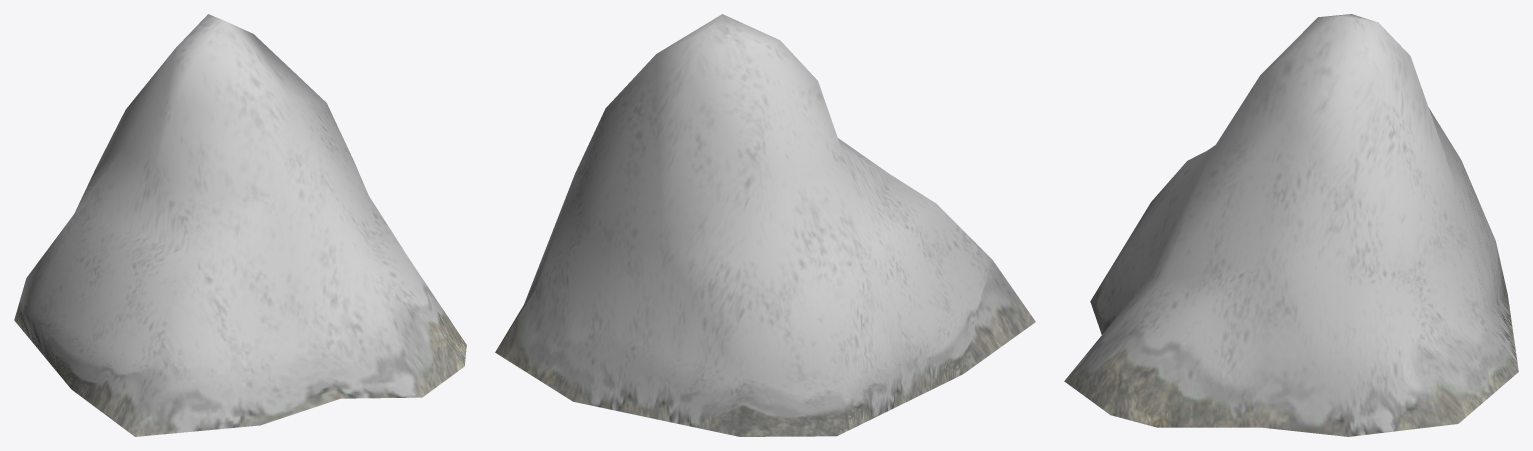
File: general_obj_stone18_lod_01.fbx
The picture shows the model from 3 angles, left to right: view 1: azimuth 30°, elevation 25°; view 2: azimuth 150°, elevation 25°; view 3: azimuth 270°, elevation 25°; orthographic projection. The views are drawn at different scales.
Parts seen in each view (by area): view 1: Sphere01; view 2: Sphere01; view 3: Sphere01.
Boxes of the visible parts, x1,y1,x2,y2 form: Sphere01: [14, 14, 466, 436]; Sphere01: [495, 14, 1035, 436]; Sphere01: [1064, 14, 1518, 436].
Bounding box in the file's own units: 6.33 × 5.04 × 6.34.
